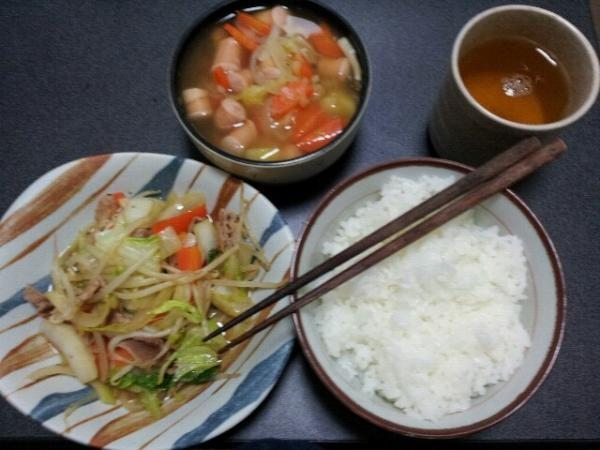plate: (0, 152, 295, 449)
rice: (303, 208, 530, 421), (322, 175, 455, 255)
